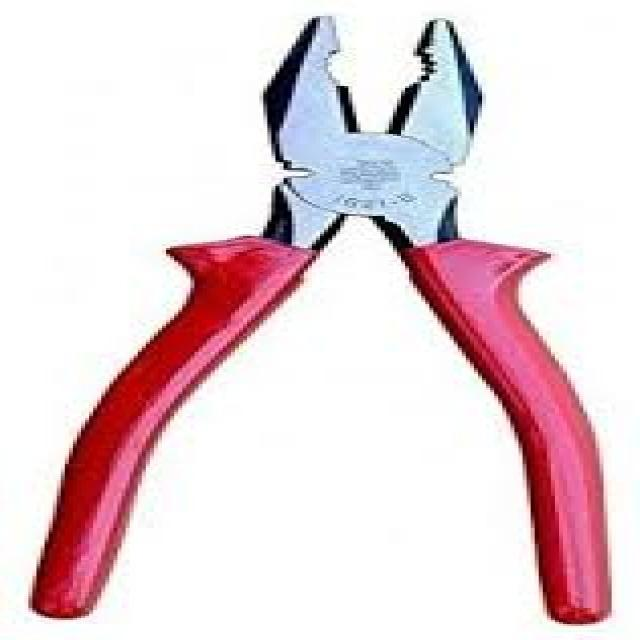pliers: (34, 18, 584, 614)
